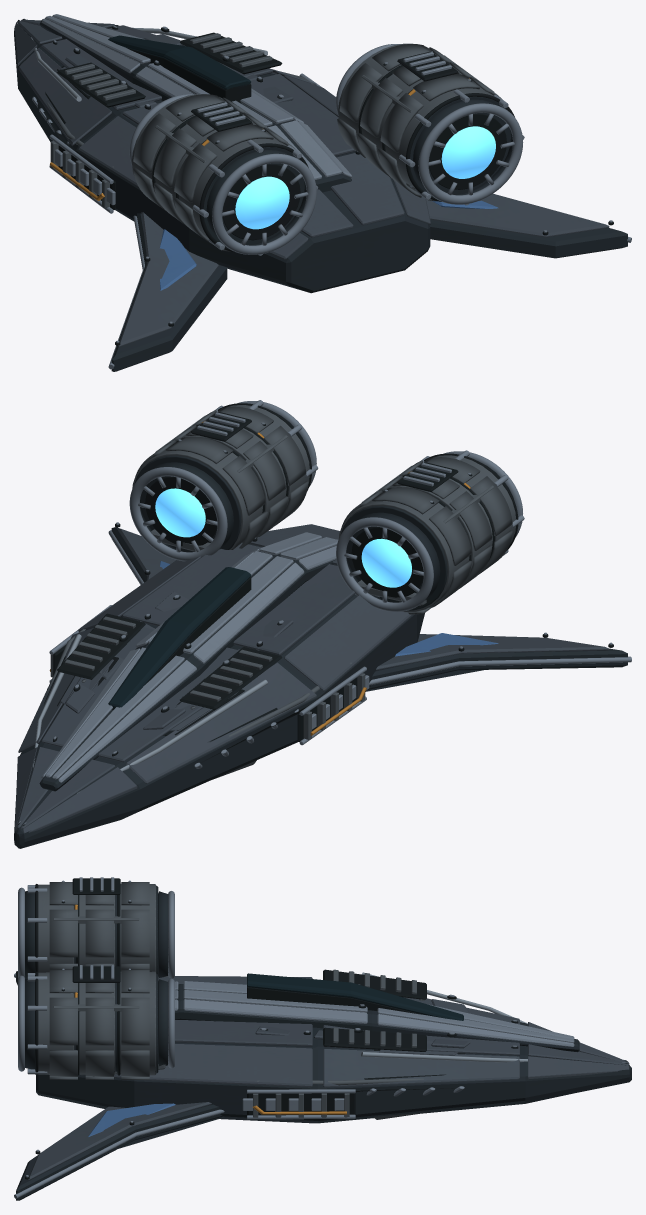
File: nostromo.glb
3 views of the same model, one above another, from view 1: azimuth 30°, elevation 25°; view 2: azimuth 150°, elevation 25°; view 3: azimuth 270°, elevation 25° (orthographic). The views are drawn at different scales.
Parts seen in each view (by area): view 1: nostromo.001; view 2: nostromo.001; view 3: nostromo.001.
Part boxes in pixels (left/top/right/bottom): nostromo.001: left=14, top=14, right=631, bottom=371; nostromo.001: left=14, top=400, right=631, bottom=848; nostromo.001: left=14, top=877, right=631, bottom=1200.
Size of the model in its own units: 4.43 by 1.55 by 5.19.
10 materials, 10 textured.
